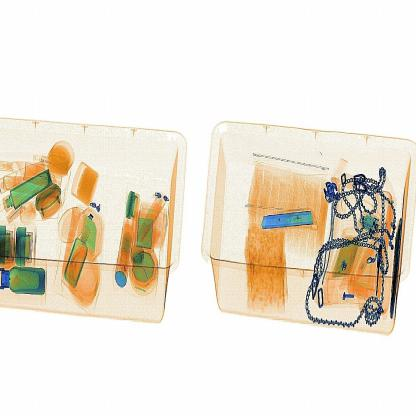pliers: (254, 202, 318, 236)
